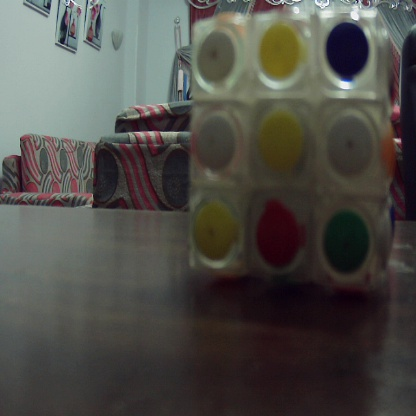Rubix Cube: (187, 10, 397, 294)
